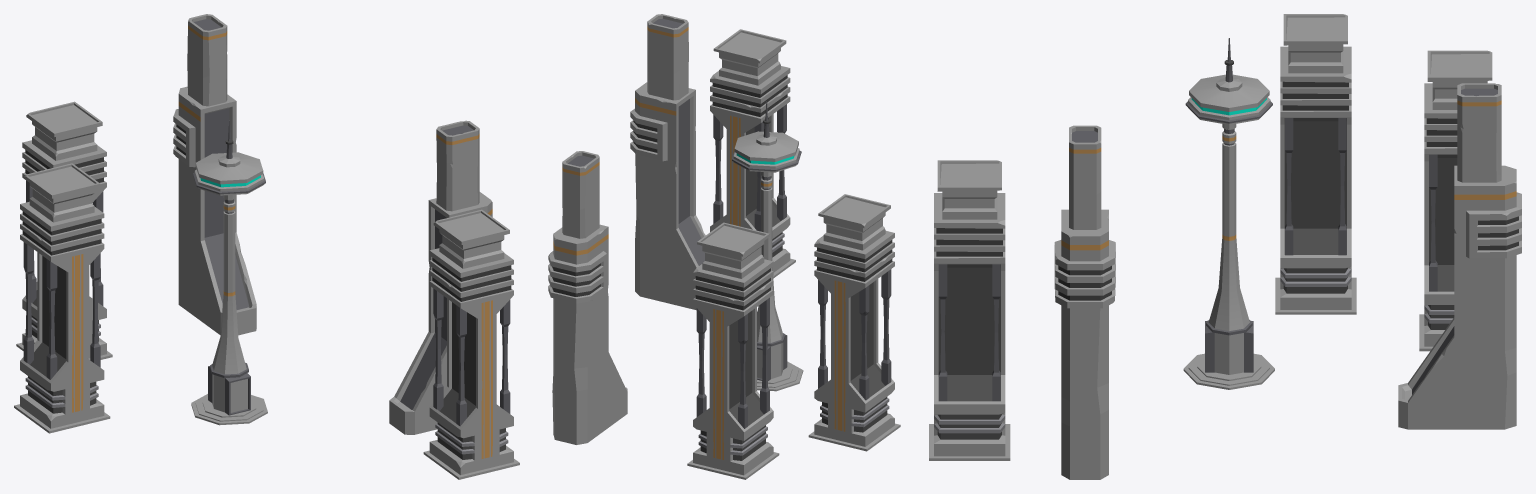
The model's file is depth-testing.glb.
The picture shows the model from 3 angles, left to right: view 1: azimuth 30°, elevation 25°; view 2: azimuth 150°, elevation 25°; view 3: azimuth 270°, elevation 25°; orthographic projection. The views are drawn at different scales.
Visible parts, largest first — view 1: SM_Bld_Large_03.002, SM_Bld_Large_03.001, SM_Bld_Large_01.001, SM_Bld_Large_01, SM_Bld_Large_06, SM_Bld_Large_03; view 2: SM_Bld_Large_03, SM_Bld_Large_03.001, SM_Bld_Large_01, SM_Bld_Large_01.001, SM_Bld_Large_03.002, SM_Bld_Large_06; view 3: SM_Bld_Large_01.001, SM_Bld_Large_03.001, SM_Bld_Large_03.002, SM_Bld_Large_01, SM_Bld_Large_06, SM_Bld_Large_03.
Boxes of the visible parts, x1,y1,x2,y2 form: SM_Bld_Large_03.002: (423,209,519,479); SM_Bld_Large_03.001: (14,163,110,433); SM_Bld_Large_01.001: (173,14,256,335); SM_Bld_Large_01: (389,120,492,434); SM_Bld_Large_06: (191,120,267,425); SM_Bld_Large_03: (16,101,112,359); SM_Bld_Large_03: (687,222,779,479); SM_Bld_Large_03.001: (808,194,900,451); SM_Bld_Large_01: (630,14,705,310); SM_Bld_Large_01.001: (548,151,627,444); SM_Bld_Large_03.002: (710,29,795,278); SM_Bld_Large_06: (732,101,803,391); SM_Bld_Large_01.001: (1398,83,1521,429); SM_Bld_Large_03.001: (1275,14,1356,314); SM_Bld_Large_03.002: (929,160,1010,460); SM_Bld_Large_01: (1054,125,1115,479); SM_Bld_Large_06: (1183,38,1274,389); SM_Bld_Large_03: (1419,50,1495,351).
Bounding box in the file's own units: 16.56 × 12.73 × 20.56.
Materials: 1 (1 with a texture image).
